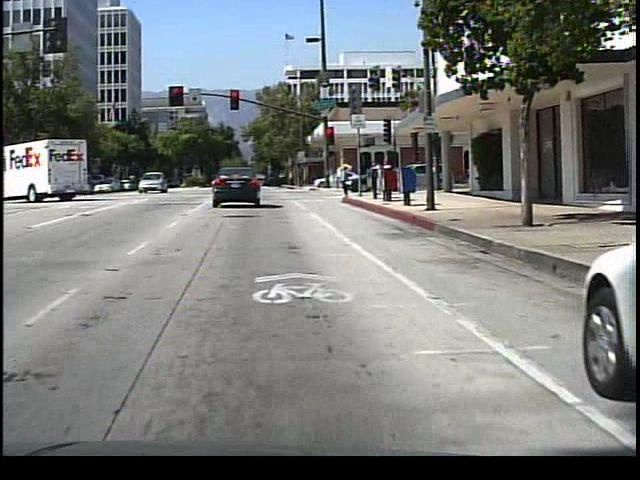person: (335, 152, 357, 202)
